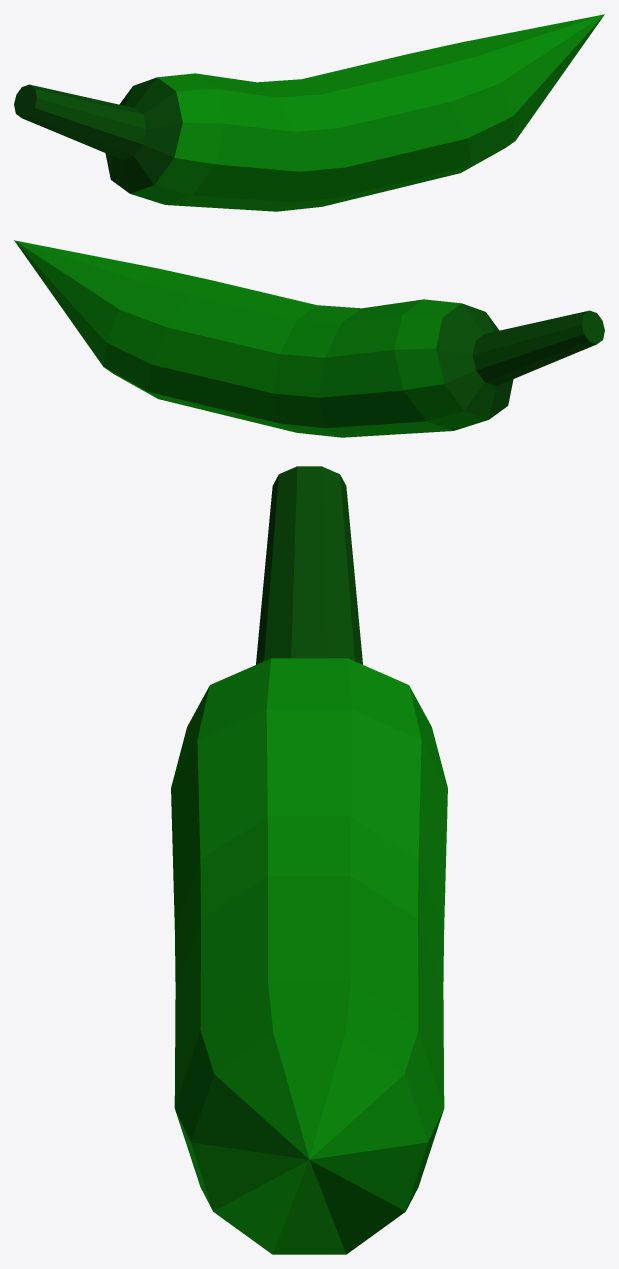
The model's file is jalapenoobj.fbx.
The picture shows the model from 3 angles, top to bottom: view 1: azimuth 30°, elevation 25°; view 2: azimuth 150°, elevation 25°; view 3: azimuth 270°, elevation 25°; orthographic projection. The views are drawn at different scales.
Parts seen in each view (by area): view 1: Jalapeno; view 2: Jalapeno; view 3: Jalapeno.
Part boxes in pixels (bbox=[...]): Jalapeno: bbox=[14, 14, 604, 211]; Jalapeno: bbox=[14, 240, 604, 437]; Jalapeno: bbox=[171, 466, 447, 1254].
Size of the model in its own units: 56.1 by 16.53 by 11.48.
